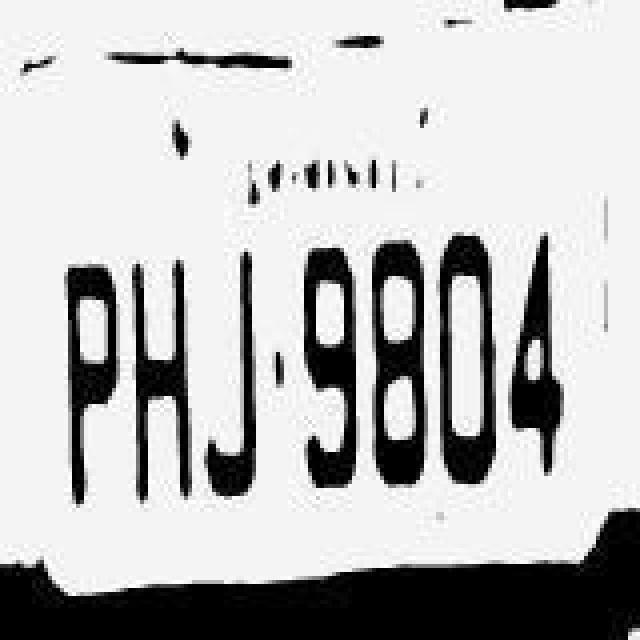4: (506, 228, 582, 492)
8: (360, 224, 432, 496)
9: (292, 232, 364, 512)
H: (114, 252, 190, 524)
J: (188, 252, 260, 516)
O: (432, 220, 504, 492)
P: (40, 258, 120, 526)
